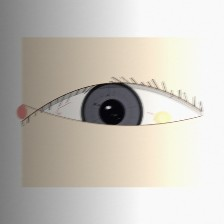pinguecula_lesion: (145, 104, 180, 132)
